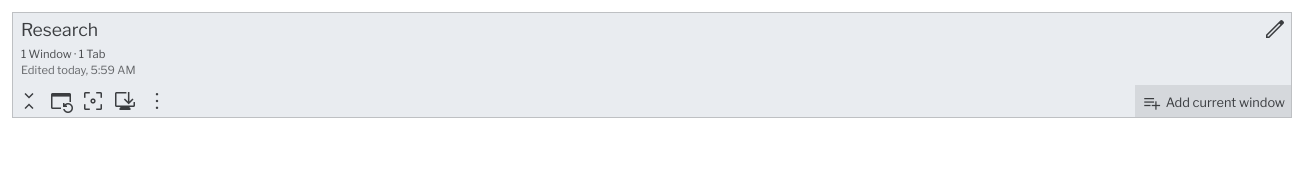
Scenario: finishing a session rename › Esc and IME in the title field (KAN-408) › CONTROL: Enter still commits
This screenshot has width=1304, height=172.
Click the button with aria-label "Rename session: Research": (60, 29) left=13, top=13, right=106, bottom=45
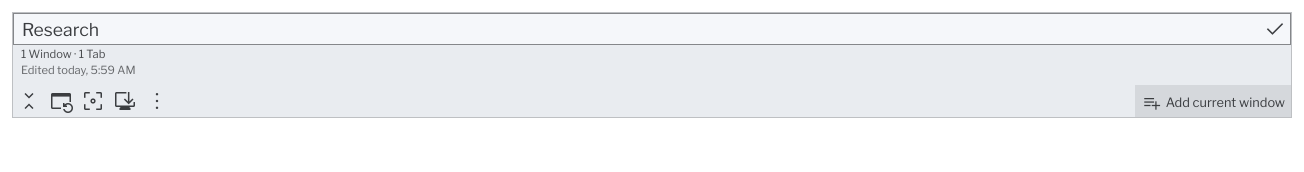
Replace the text in the field with "Reading": (652, 29) left=13, top=13, right=1291, bottom=45
Then press Enter
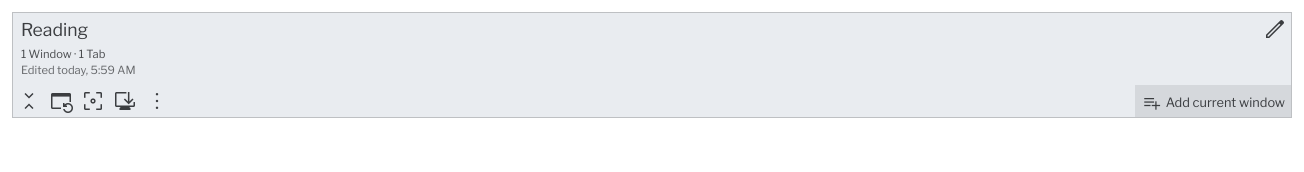
Expected: the text "Reading" is shown, left=21, top=18, right=88, bottom=40
